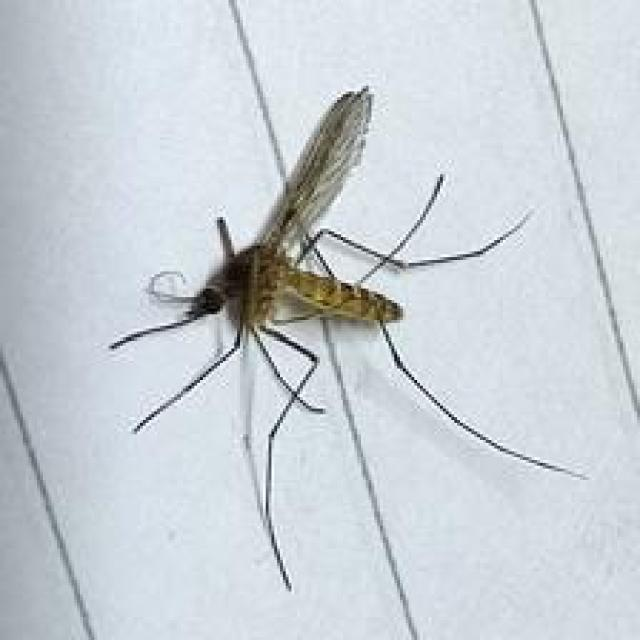Culex: (106, 0, 591, 640)
